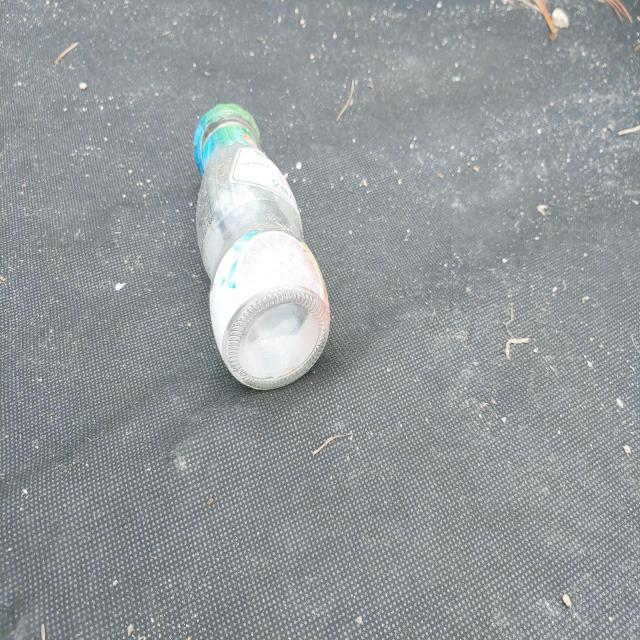glass: (194, 103, 330, 390)
